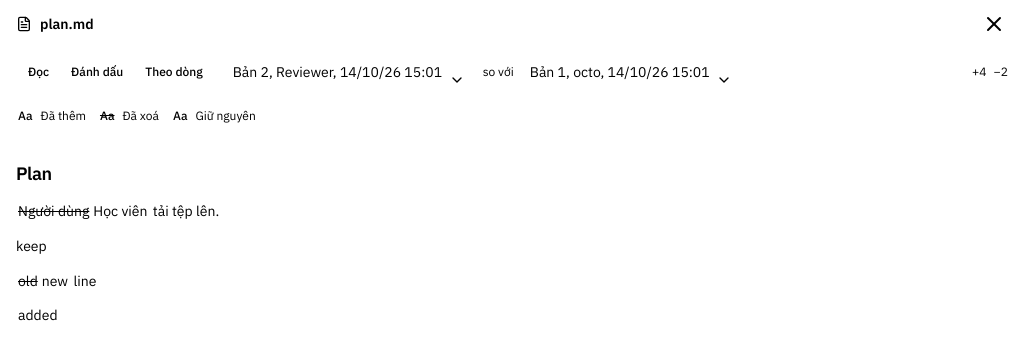
Test: ChatDocPanel › opens a document with two versions on Marked, the latest against the one before, with the original in the list
Check: the element with test id "doc-tracked" is shown, box [16,162,219,324]
Check: the button with test id "doc-mode-tracked" reads "Đánh dấu", box [61,60,133,84]
Click the button with test id "doc-mode-lines". click: click(174, 72)
box: [135,60,213,84]
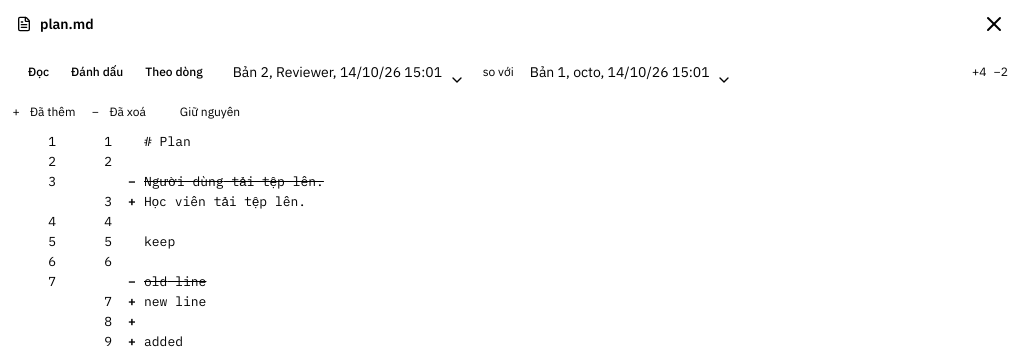
Check: the text "Người dùng" is shown, box [144,173,224,190]
Click the button with test id "doc-mode-read". click: click(39, 72)
box: [18,60,59,84]
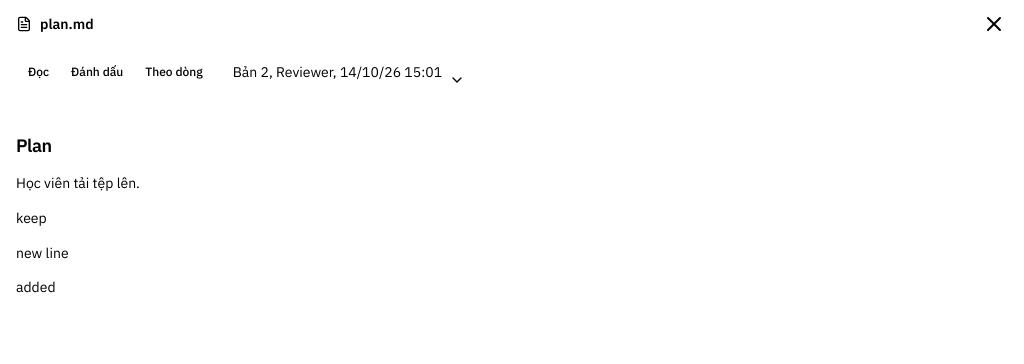
Check: the element with test id "doc-markdown" shows "added", box [16,278,56,296]
